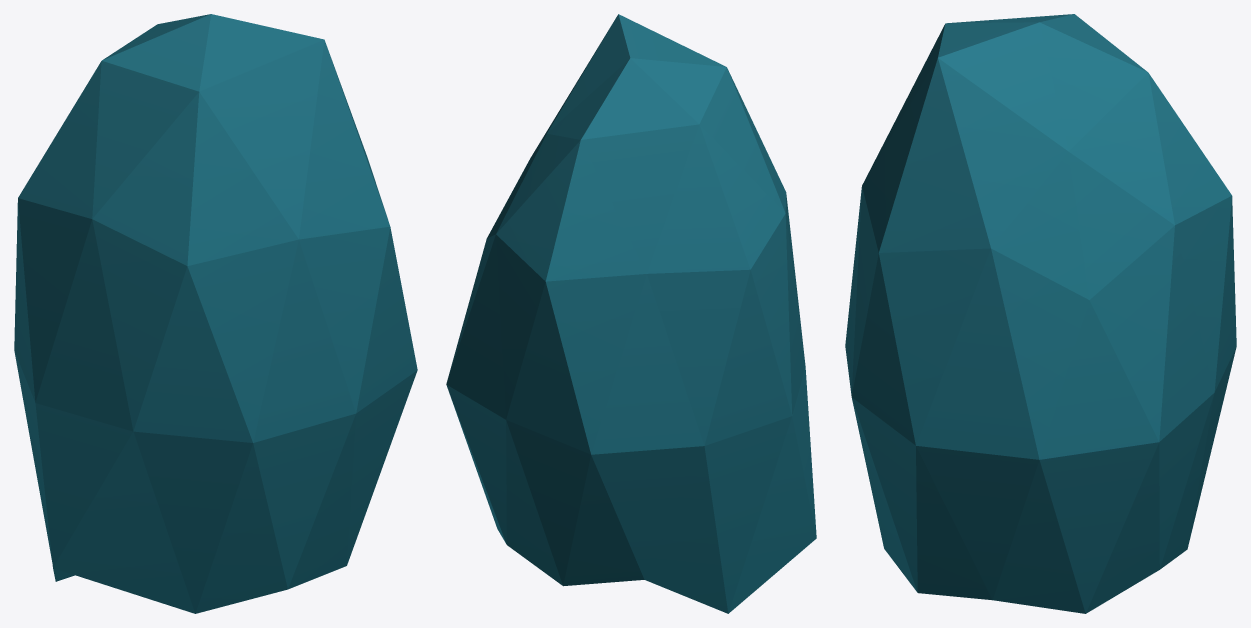
Rendered from Bush_4_gradient_blue_vc.fbx.
3 renders of one model, left to right at view 1: azimuth 30°, elevation 25°; view 2: azimuth 150°, elevation 25°; view 3: azimuth 270°, elevation 25°, orthographic. The views are drawn at different scales.
Parts seen in each view (by area): view 1: Bush_4_gradient_blue_vc; view 2: Bush_4_gradient_blue_vc; view 3: Bush_4_gradient_blue_vc.
Boxes of the visible parts, <box> form: Bush_4_gradient_blue_vc: <box>14,14,417,613</box>; Bush_4_gradient_blue_vc: <box>446,14,816,613</box>; Bush_4_gradient_blue_vc: <box>845,14,1236,613</box>.
Size of the model in its own units: 39.09 by 58.1 by 36.72.
